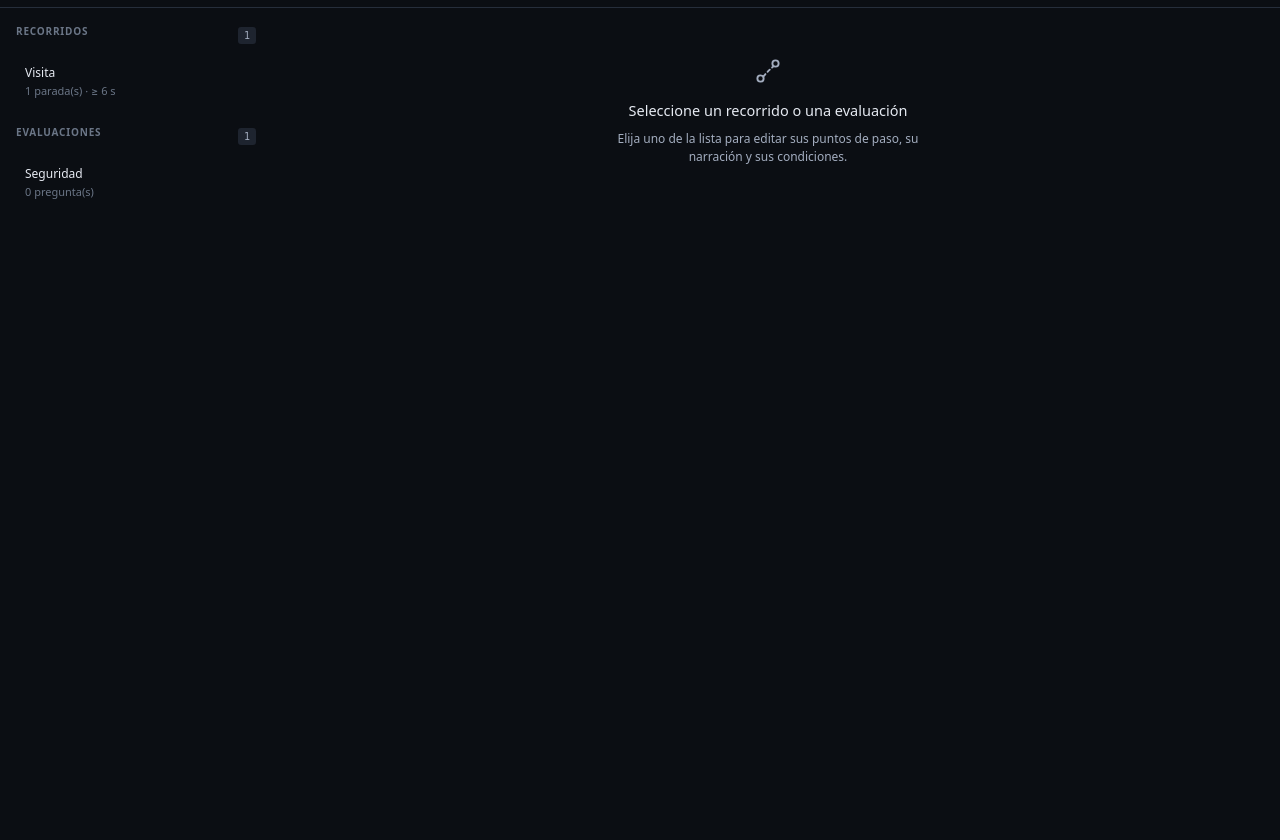
Scenario: ToursModule — borrado › TEST-TUI-022 borrar una evaluación avisa de los recorridos que la exigen
Step 1. Click the button "Seguridad 0 pregunta(s)" → (136, 183), box x1=16 y1=156 x2=256 y2=209
(page scrolled)
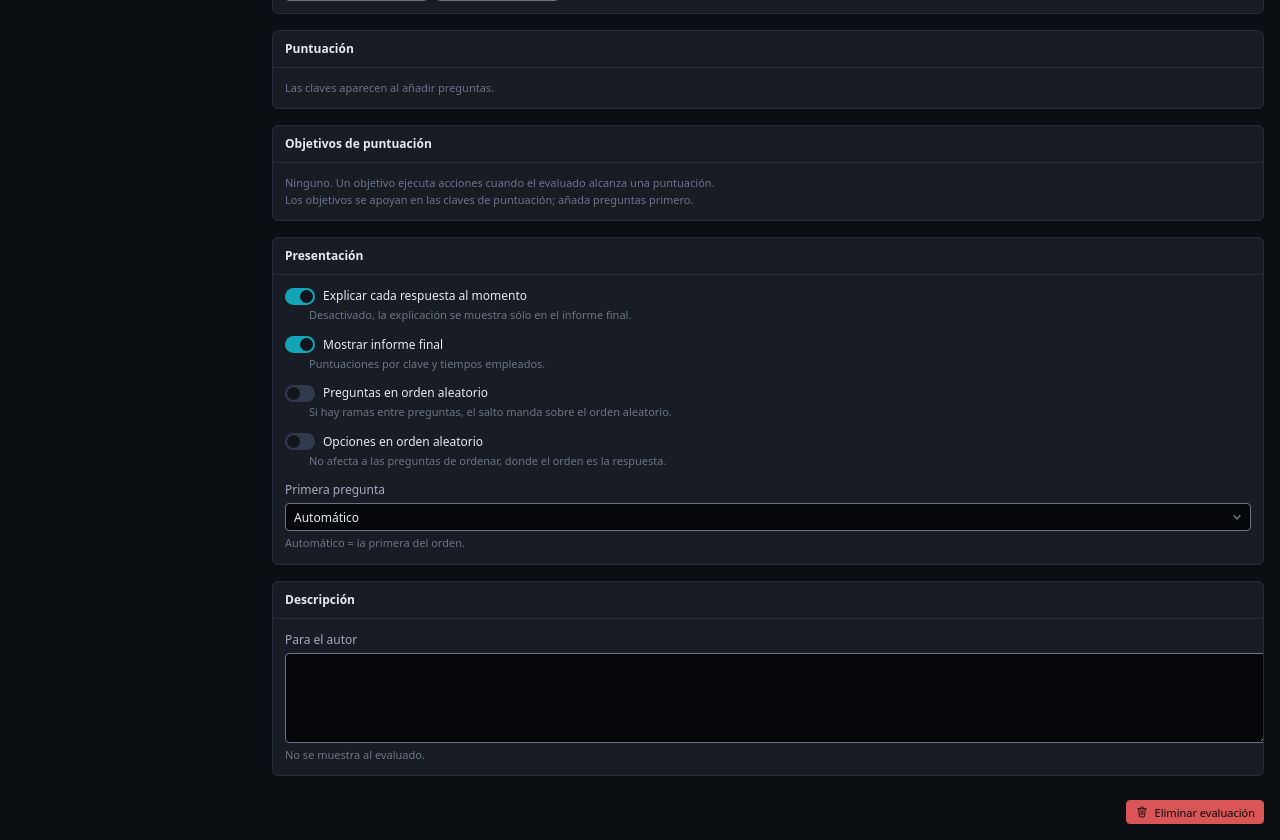
Step 2. Click the button "Eliminar evaluación" → (1195, 812), box x1=1126 y1=800 x2=1264 y2=824
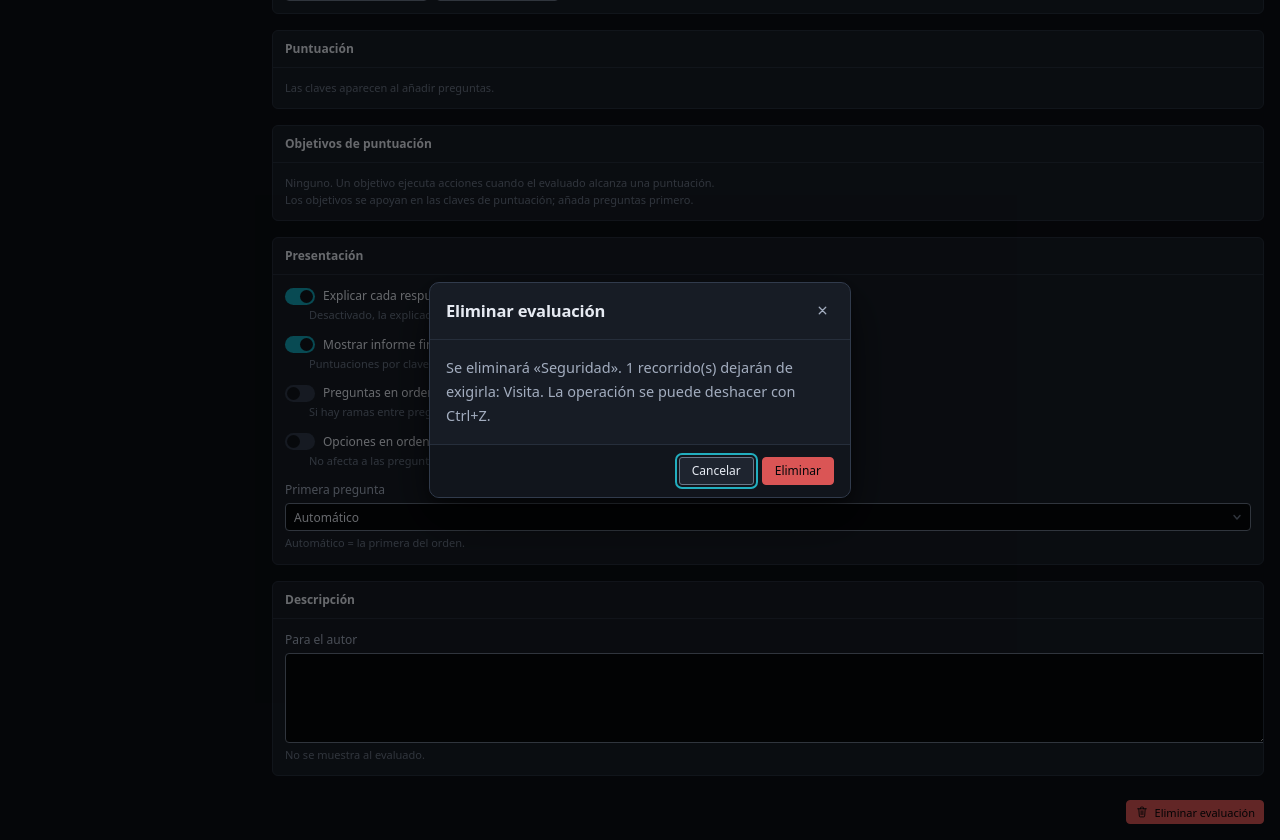
Now the text "dejarán de exigirla" is shown, box x1=446 y1=358 x2=796 y2=425
